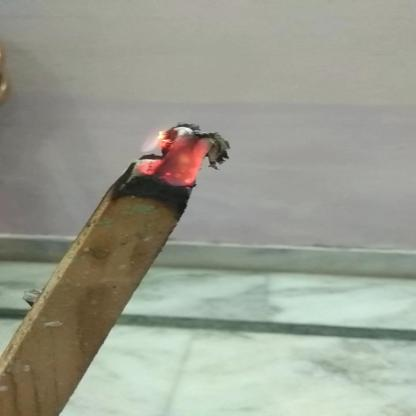fire: (140, 122, 212, 188)
